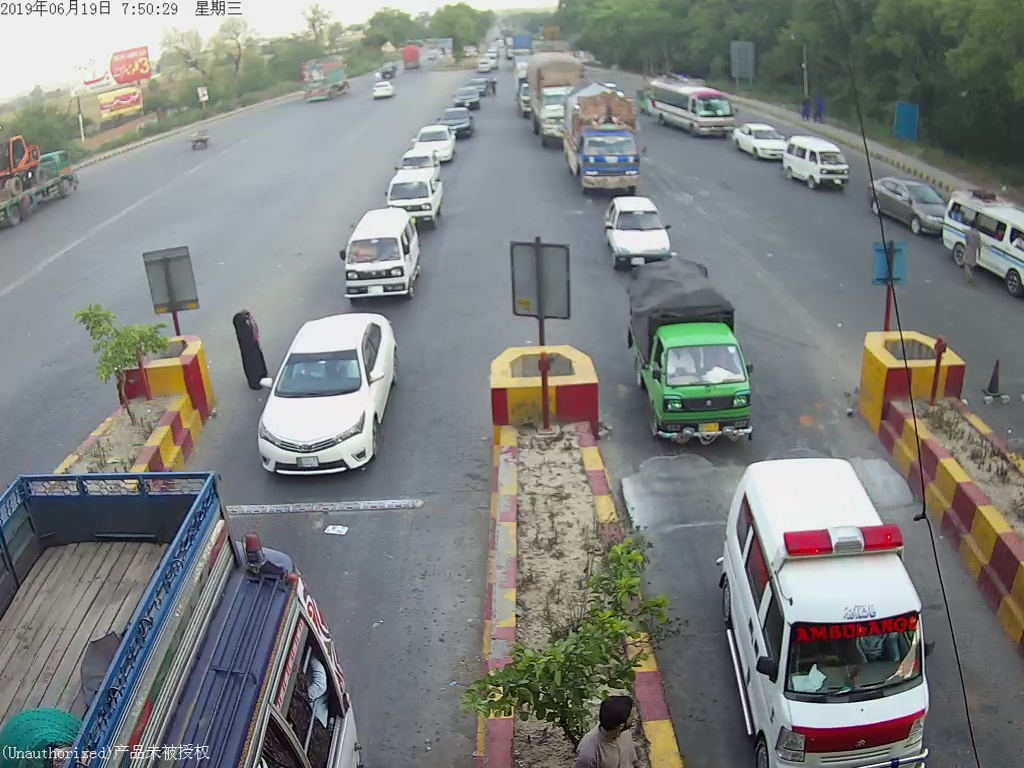Cat-1: (715, 453, 935, 768), (623, 258, 766, 446), (252, 309, 402, 473), (331, 202, 422, 302), (600, 193, 678, 266), (381, 160, 450, 227), (786, 126, 847, 194)
Cat-2: (567, 90, 650, 186)
